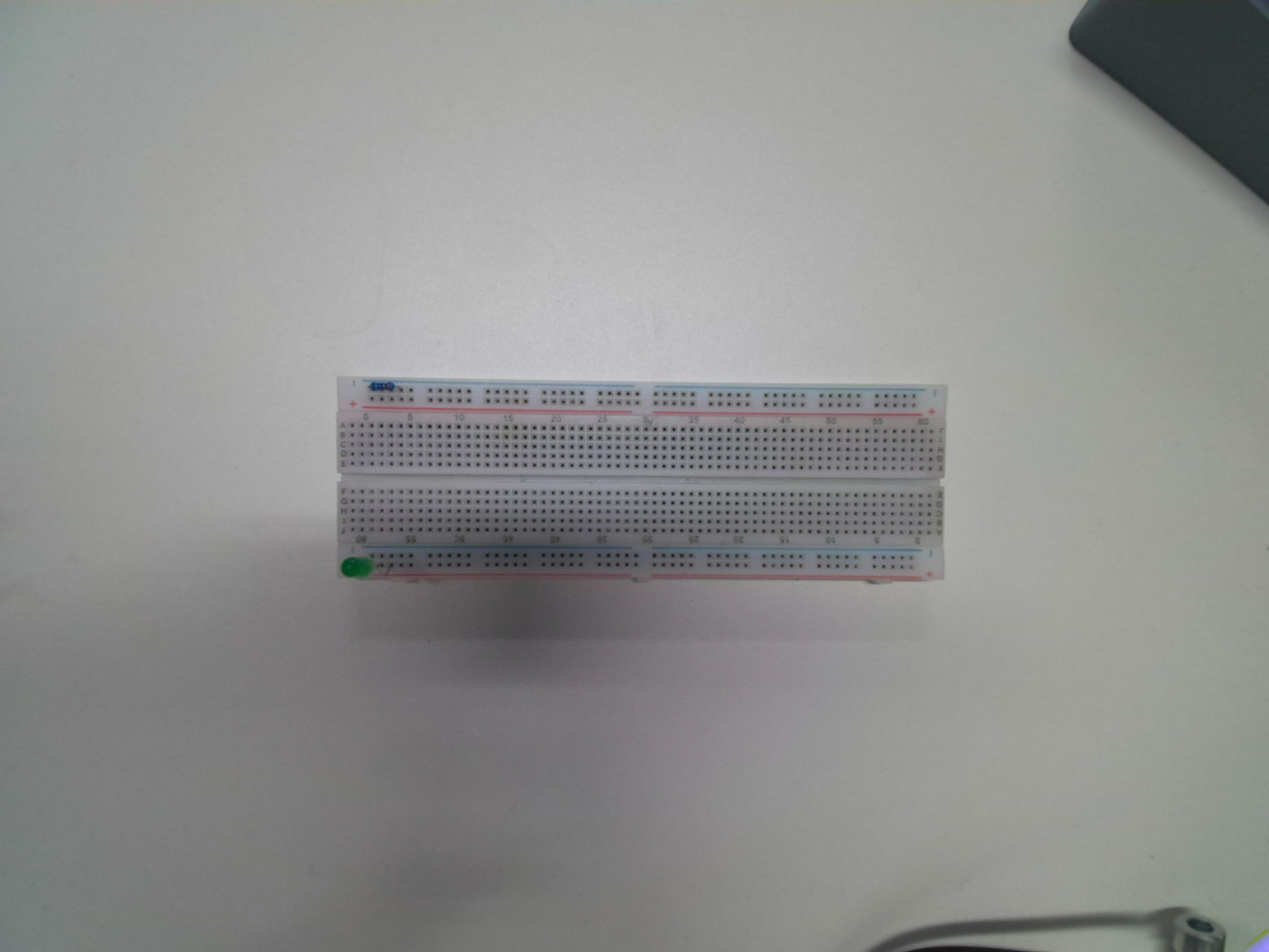base: (332, 381, 950, 587)
green-led: (338, 557, 377, 583)
resistor-small: (370, 378, 398, 392)
